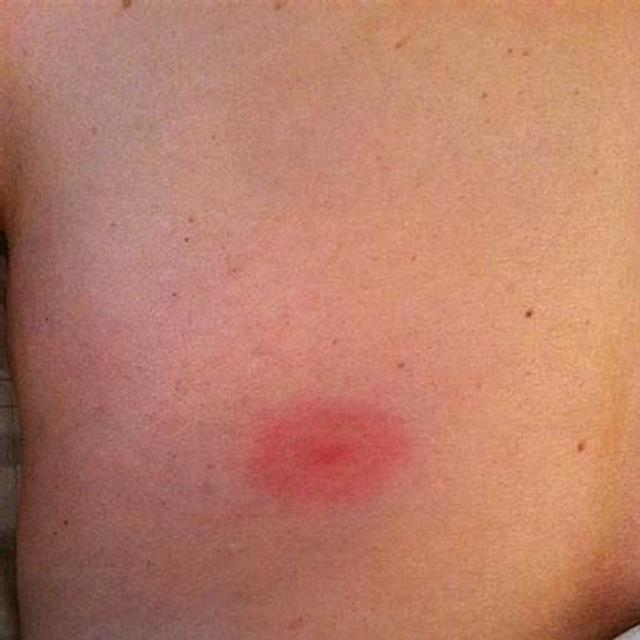kene: (234, 380, 421, 526)
